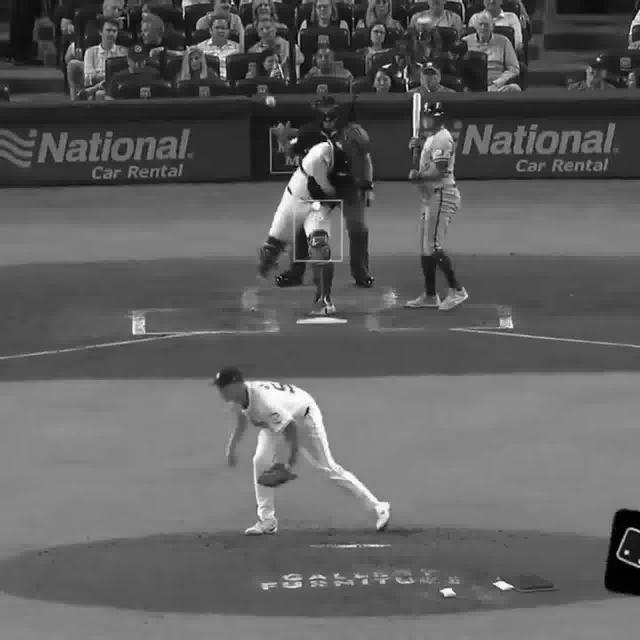base: (294, 317, 348, 325)
baseball: (266, 97, 276, 108)
baseball_glove: (260, 462, 294, 484)
shoe: (439, 287, 467, 318), (407, 292, 446, 312), (374, 500, 394, 536), (244, 522, 278, 538), (307, 304, 337, 318)
